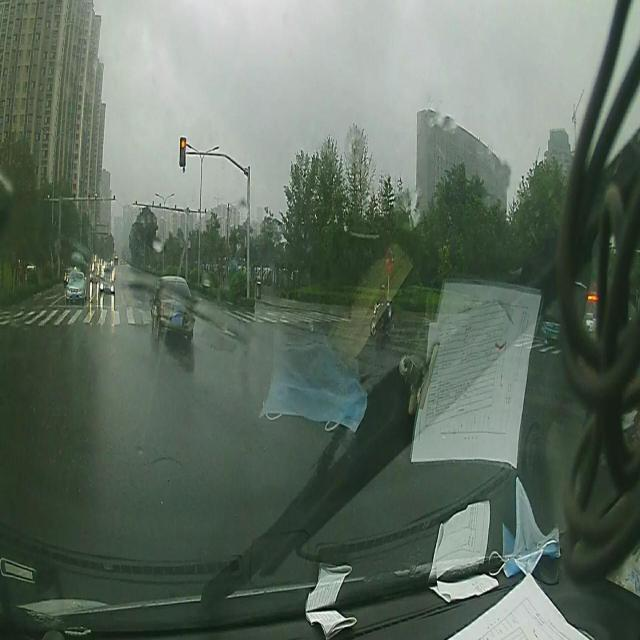car: (149, 274, 196, 340), (66, 270, 88, 302), (98, 266, 116, 292)
